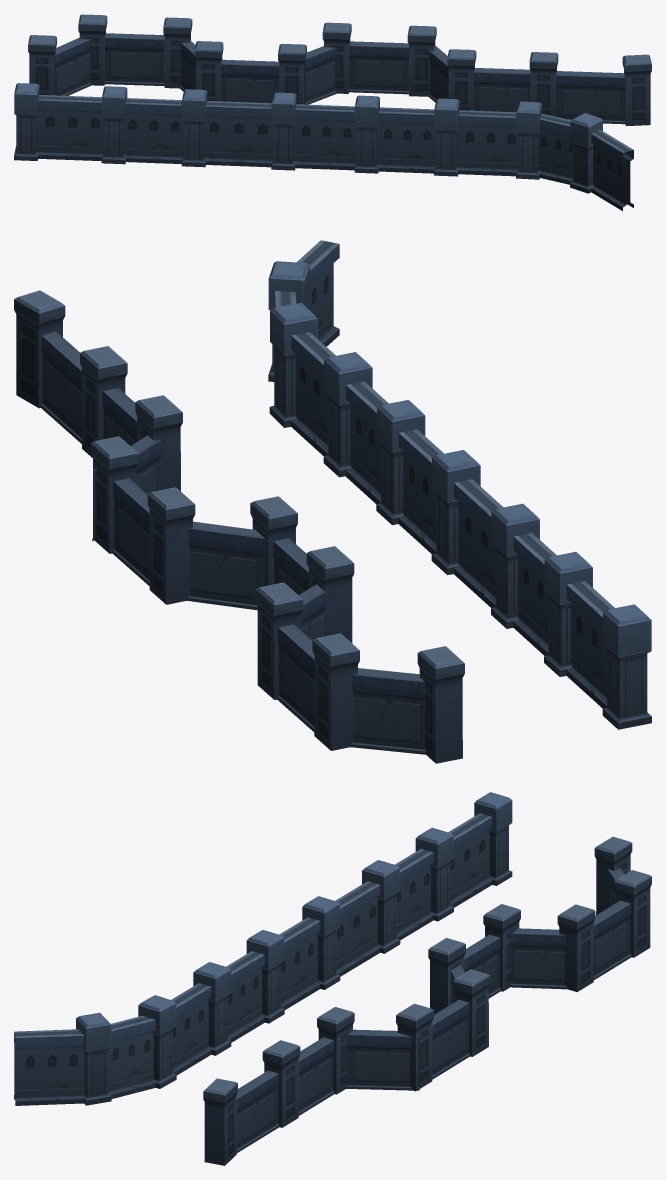
The model's file is Area_10_1.fbx.
3 views of the same model, one above another, from view 1: azimuth 30°, elevation 25°; view 2: azimuth 150°, elevation 25°; view 3: azimuth 270°, elevation 25° (orthographic). The views are drawn at different scales.
Parts seen in each view (by area): view 1: Area_10_1; view 2: Area_10_1; view 3: Area_10_1.
Part boxes in pixels (left/top/right/bottom): Area_10_1: left=14, top=14, right=651, bottom=211; Area_10_1: left=14, top=240, right=651, bottom=763; Area_10_1: left=14, top=792, right=651, bottom=1165.
Bounding box in the file's own units: 5570 × 701 × 5070.
